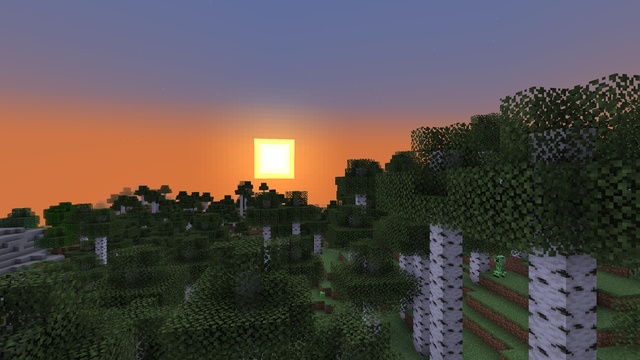creepers: (493, 255, 506, 277)
slimes: (319, 291, 324, 297)
